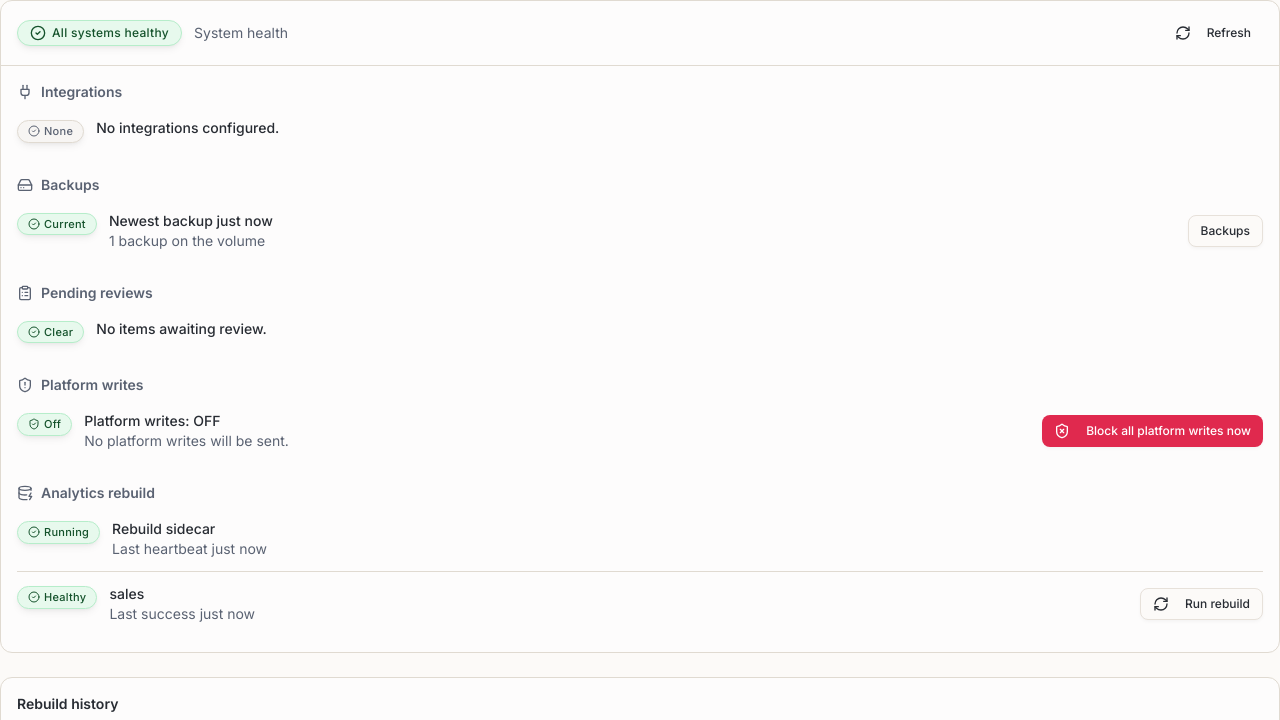
Scenario: Run-now confirm can be cancelled without firing a rebuild
The image size is (1280, 720).
Click the button "Run rebuild": (1202, 604) [1140,588,1263,620]
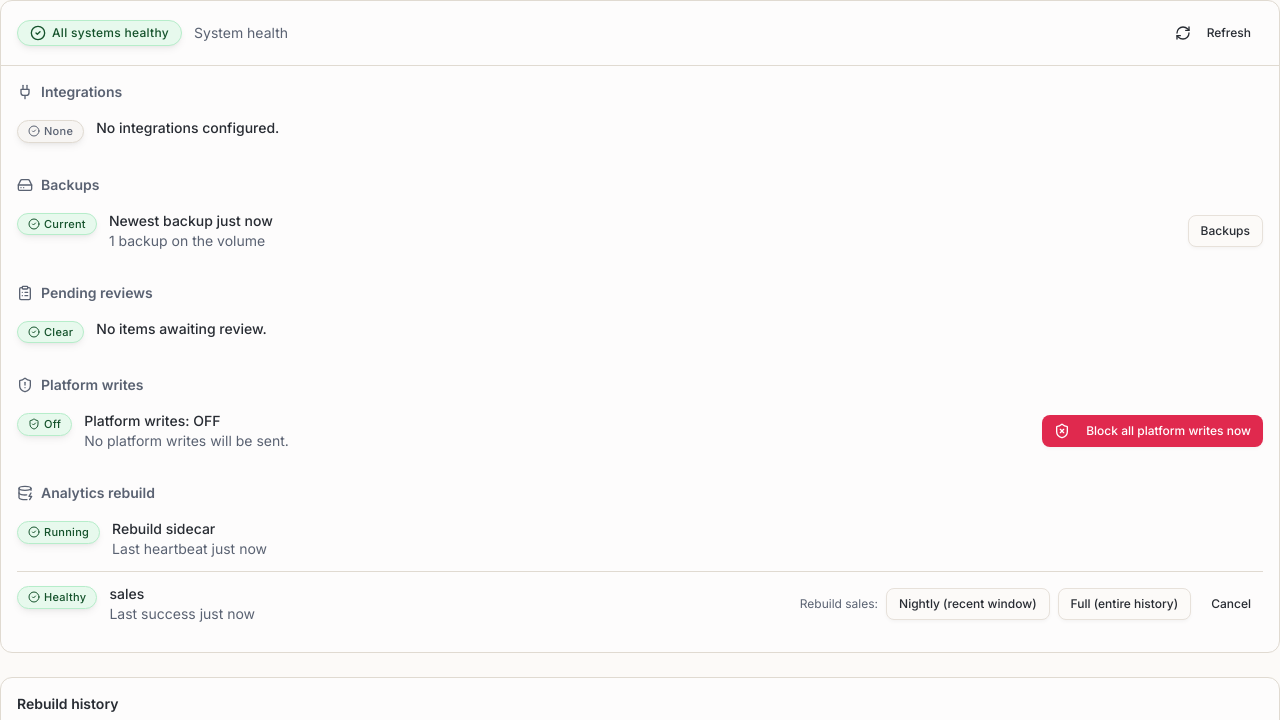
Click the button "Cancel": (1231, 604) [1199,588,1263,620]
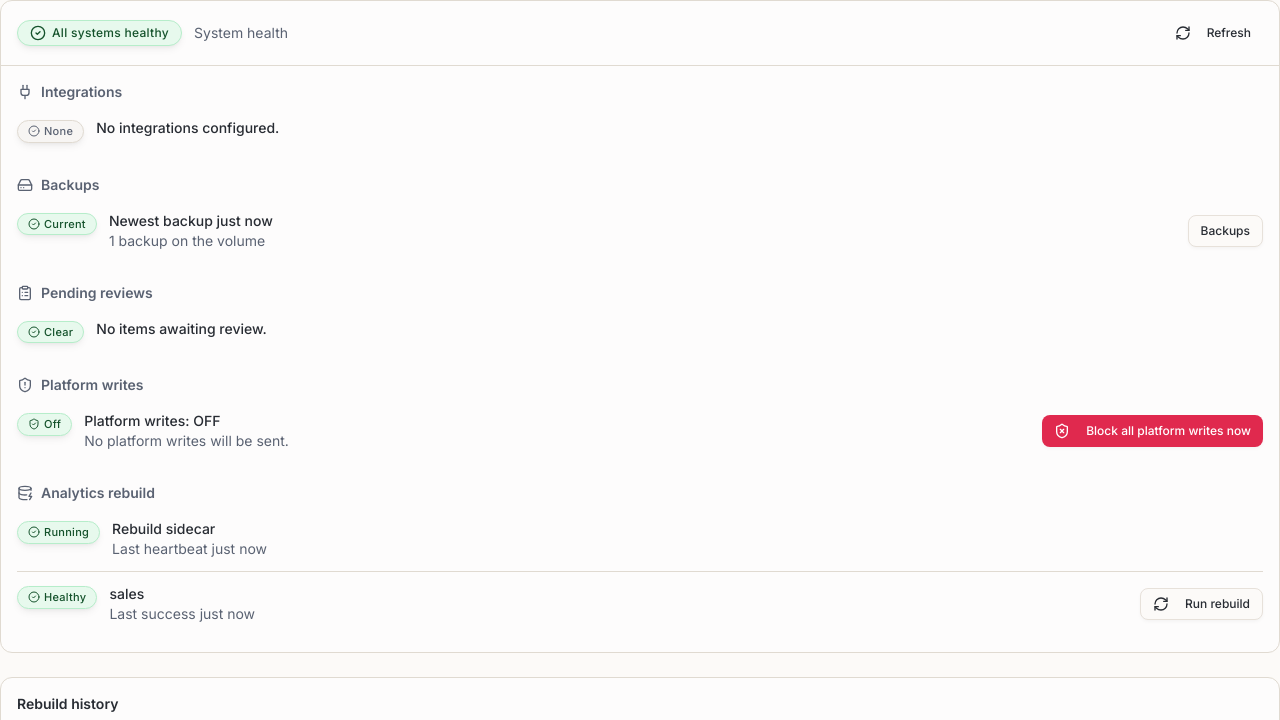
expect the button "Run rebuild" is shown: met, box [1140,588,1263,620]
